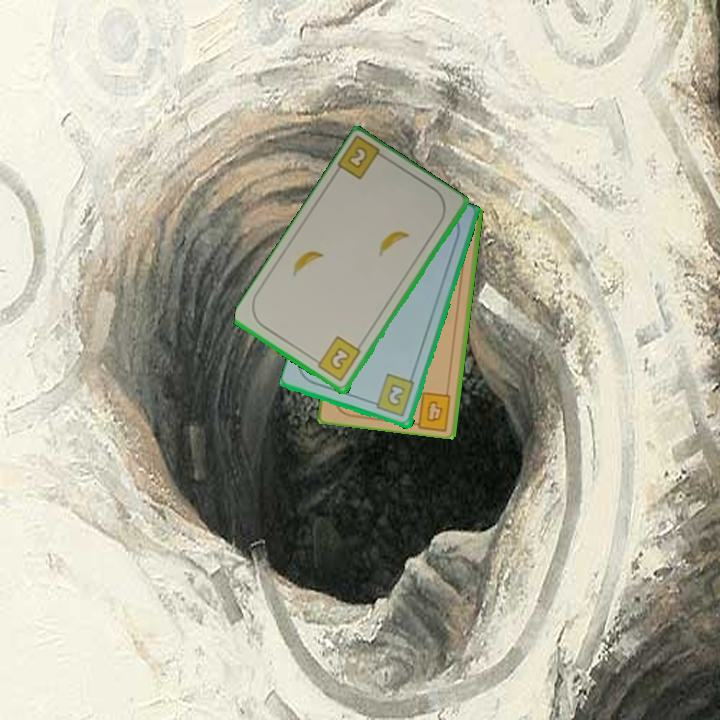2b: (310, 333, 364, 385), (334, 135, 391, 183), (367, 371, 417, 420)
4b: (423, 397, 446, 425)
